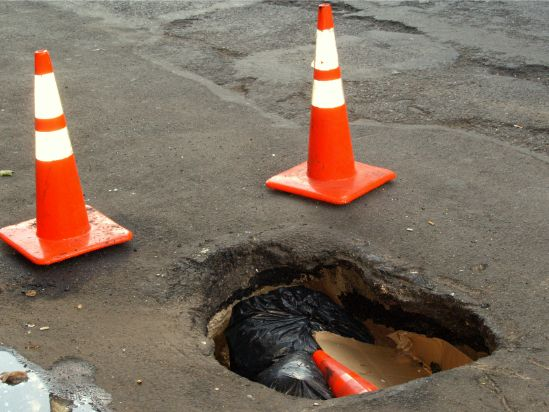pothole: (170, 233, 506, 402)
